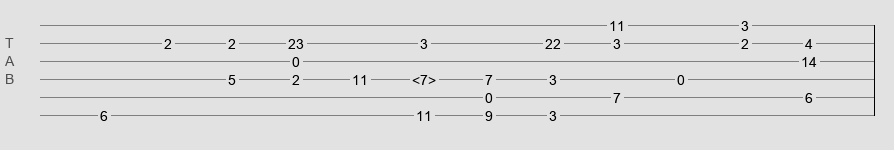0: (292, 54, 300, 64), (485, 90, 493, 100), (677, 72, 685, 82)
11: (352, 72, 368, 82), (416, 108, 432, 118), (609, 18, 625, 28)
14: (801, 54, 817, 64)
2: (164, 36, 172, 46), (228, 36, 236, 46), (292, 72, 300, 82), (741, 36, 749, 46)
22: (545, 36, 561, 46)
23: (288, 36, 304, 46)
3: (420, 36, 428, 46), (549, 72, 557, 82), (549, 108, 557, 118), (613, 36, 621, 46), (741, 18, 749, 28)
4: (805, 36, 813, 46)
5: (228, 72, 236, 82)
6: (100, 108, 108, 118), (805, 90, 813, 100)
7: (485, 72, 493, 82), (613, 90, 621, 100)
9: (485, 108, 493, 118)
harmonic: (412, 72, 436, 82)
